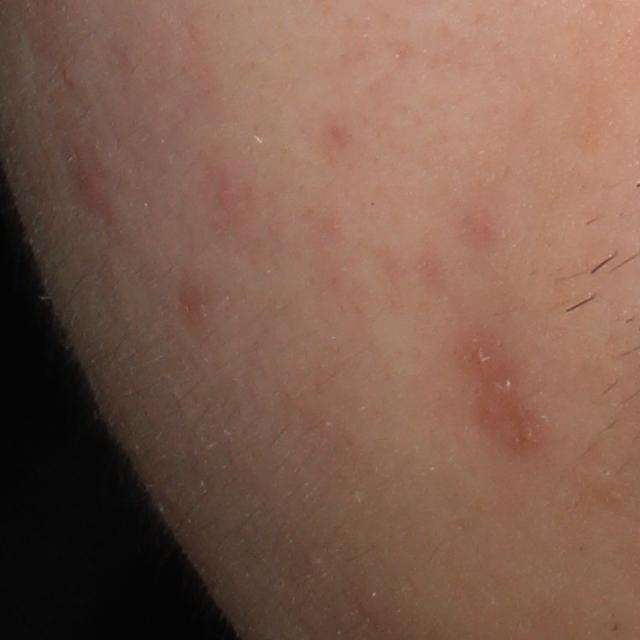papule: (70, 158, 101, 207)
